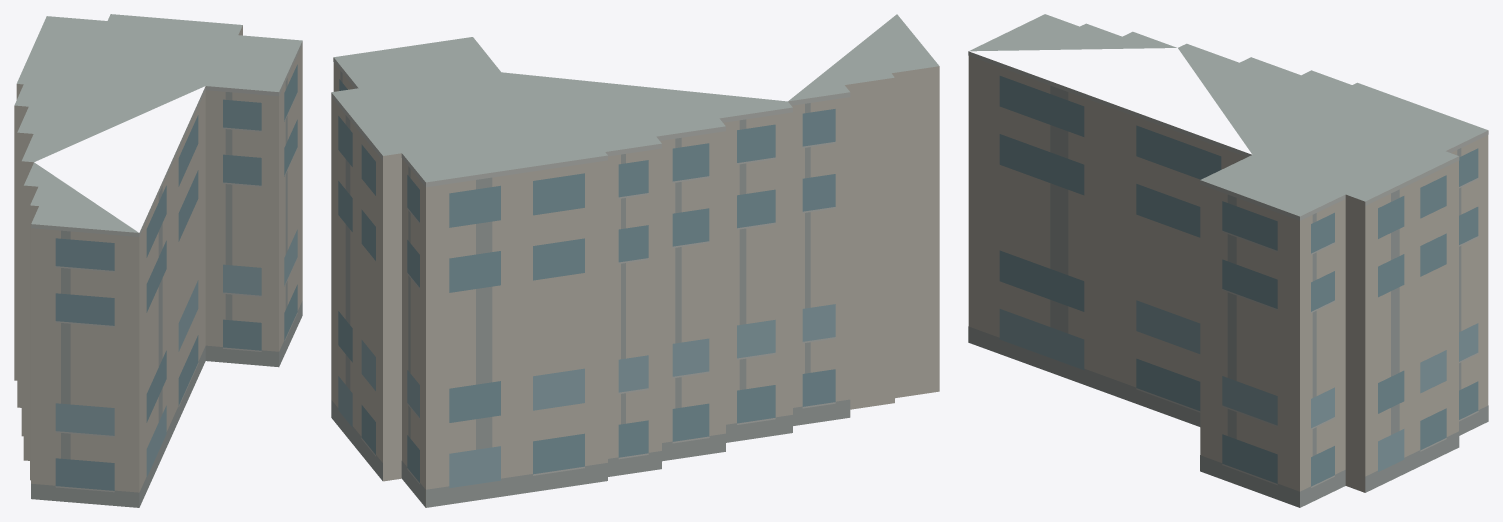
File: survey-upis-32611577.glb
3 renders of one model, left to right at view 1: azimuth 30°, elevation 25°; view 2: azimuth 150°, elevation 25°; view 3: azimuth 270°, elevation 25°, orthographic. The views are drawn at different scales.
Parts seen in each view (by area): view 1: survey-upis-32611577.tmp; view 2: survey-upis-32611577.tmp; view 3: survey-upis-32611577.tmp.
Boxes of the visible parts, <box> form: survey-upis-32611577.tmp: <box>14,14,302,507</box>; survey-upis-32611577.tmp: <box>331,14,939,507</box>; survey-upis-32611577.tmp: <box>968,14,1488,507</box>.
Bounding box in the file's own units: 24.16 × 16.2 × 26.21.
